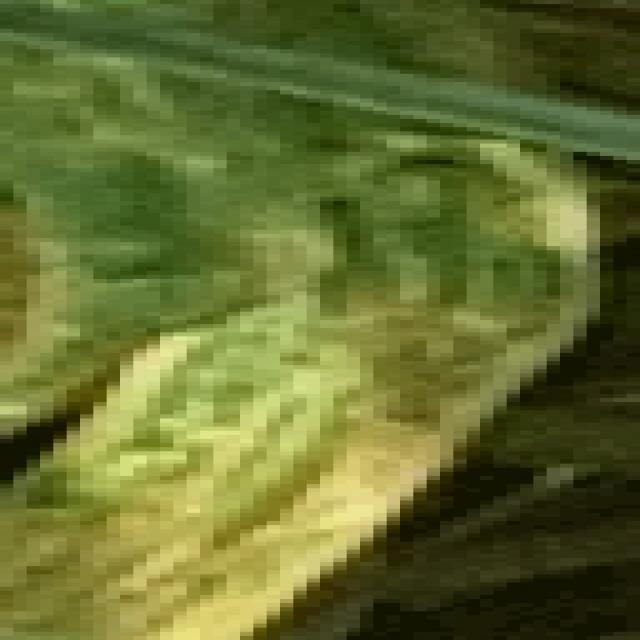Yellow Rust: (38, 232, 490, 628)
